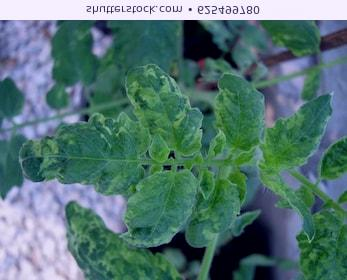Tomato leaf mosaic virus: (15, 112, 157, 198), (126, 62, 203, 160), (123, 164, 206, 251), (254, 92, 333, 175), (214, 62, 267, 154)
